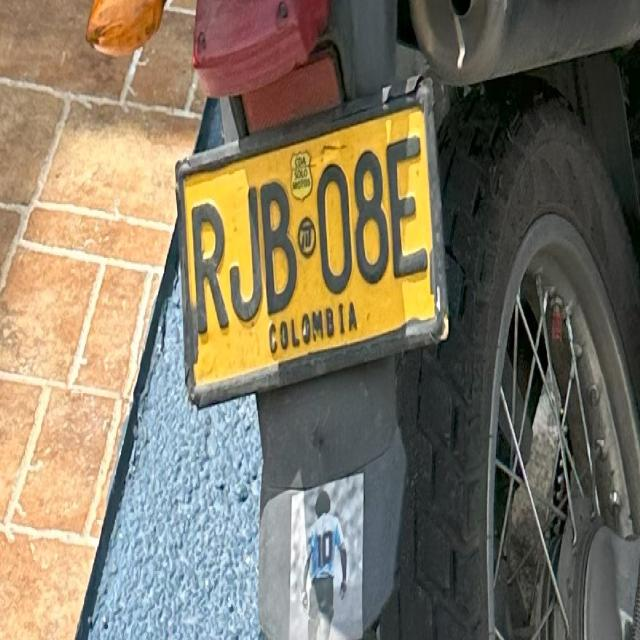number plate: (176, 80, 446, 403)
